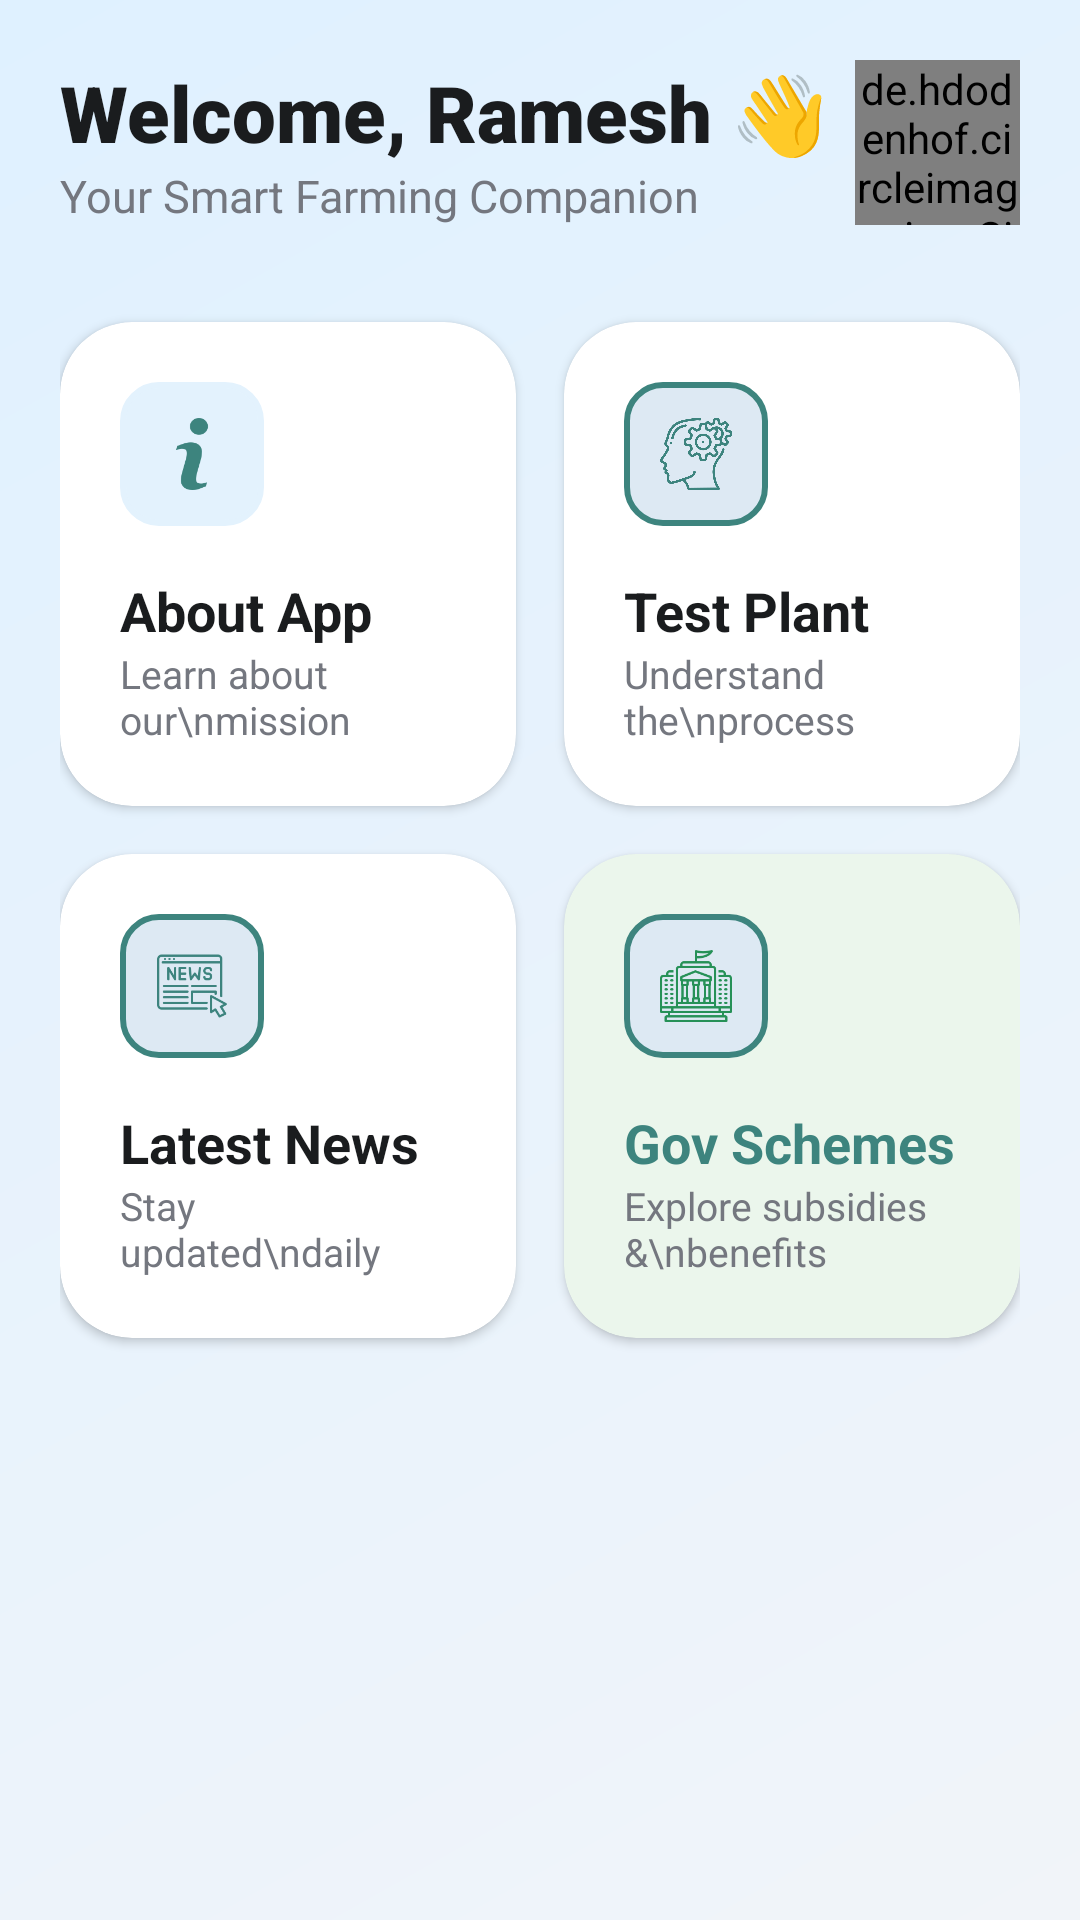

Named icons in this screenshot (1080px×1920px) and their centers, [x,y]:
thinking: [696,454]
